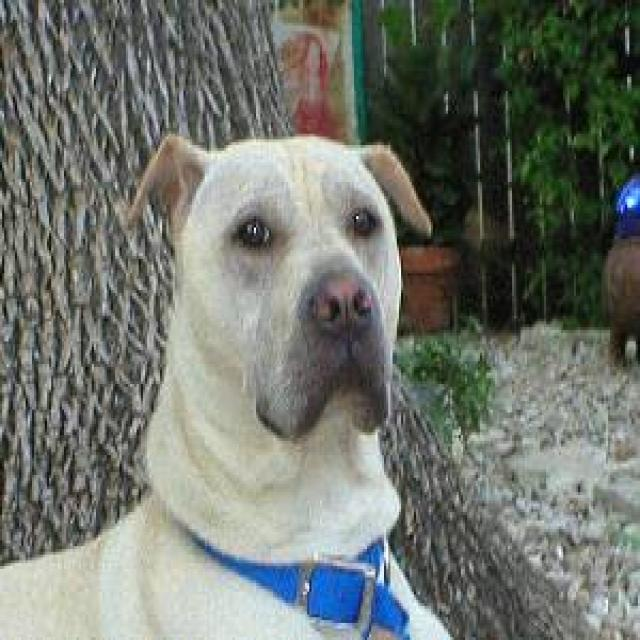dog-american_pit_bull_terrier: (2, 117, 452, 634)
